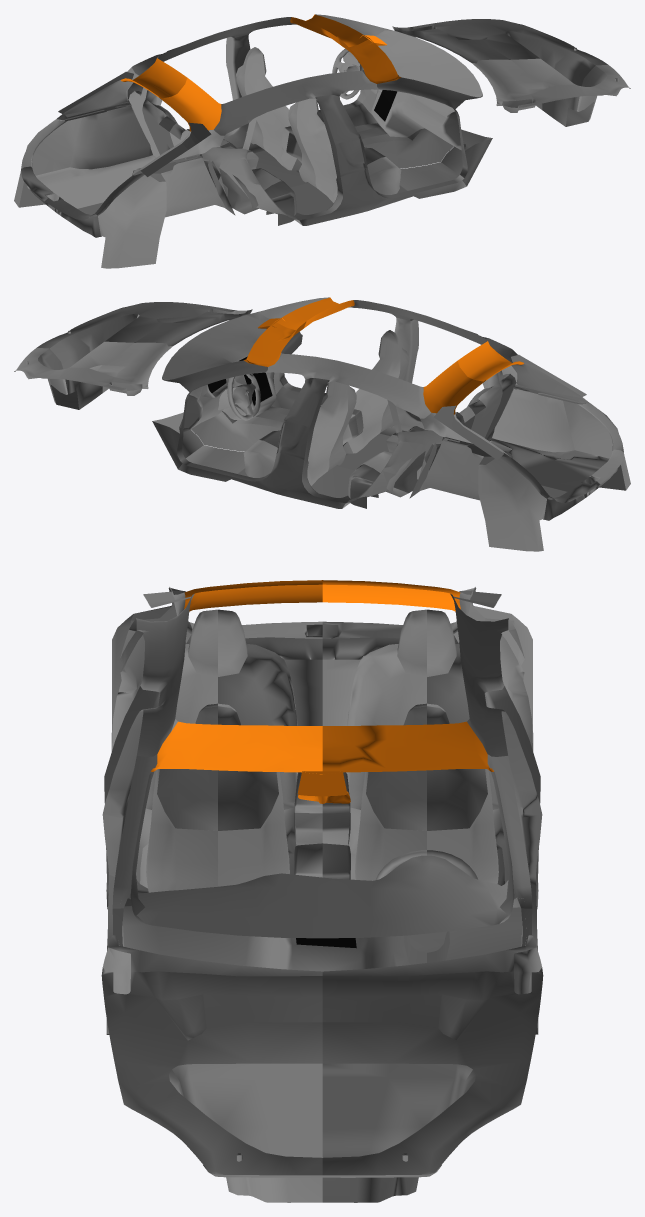
File: Interior_Executive.obj
The picture shows the model from 3 angles, top to bottom: view 1: azimuth 30°, elevation 25°; view 2: azimuth 150°, elevation 25°; view 3: azimuth 270°, elevation 25°; orthographic projection. The views are drawn at different scales.
Visible parts, largest first — view 1: Interior_Executive; view 2: Interior_Executive; view 3: Interior_Executive.
Part boxes in pixels (left/top/right/bottom): Interior_Executive: left=14, top=14, right=630, bottom=268; Interior_Executive: left=14, top=297, right=630, bottom=551; Interior_Executive: left=101, top=580, right=543, bottom=1202.
Size of the model in its own units: 4.79 by 1.14 by 1.62.
